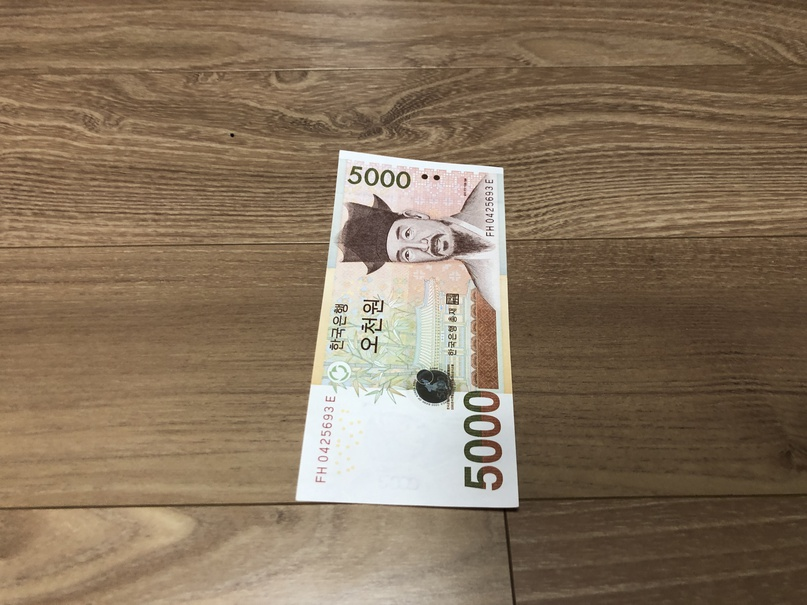5000won: (293, 150, 520, 509)
